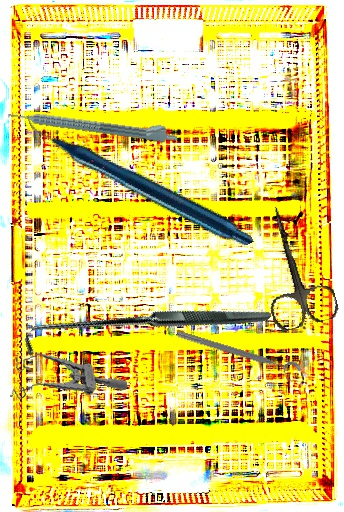Fixation Ring: (172, 326, 304, 385)
Handpiece: (26, 50, 254, 308), (7, 102, 179, 145)
Hook Surgical: (18, 203, 273, 458)
Iris Scissors: (245, 197, 341, 334)
Speculum: (3, 340, 129, 408)
